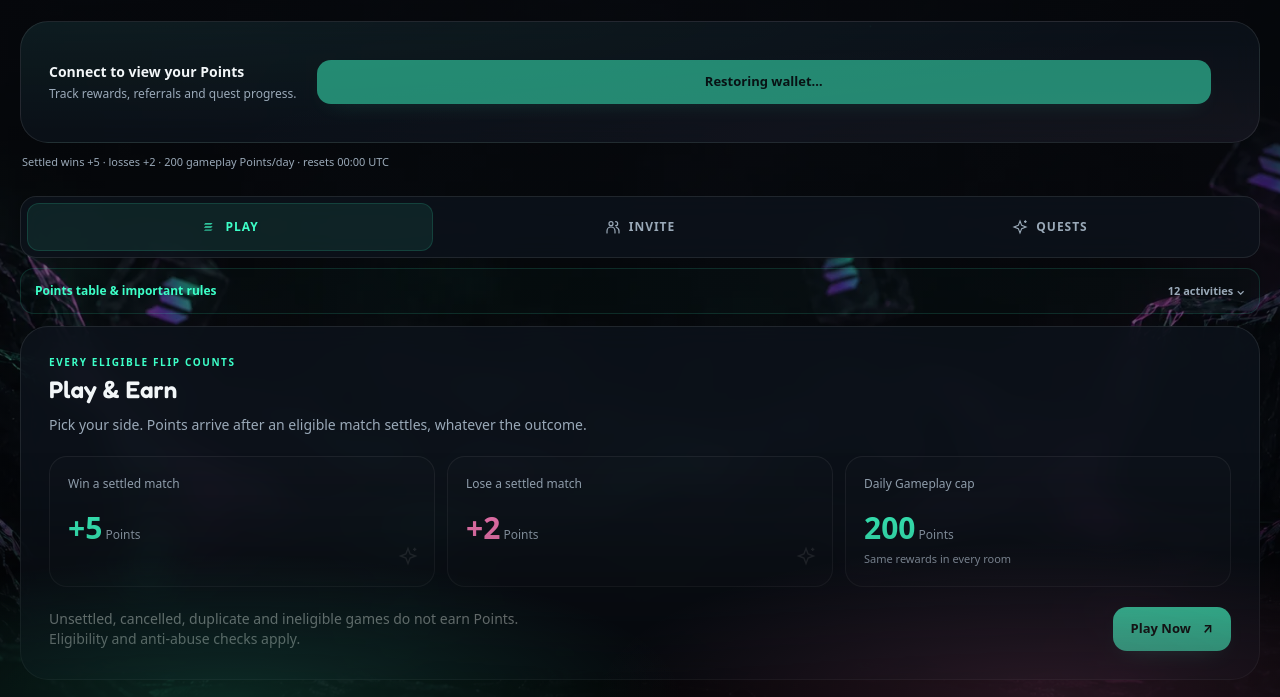
disconnected popup content has earning instructions and wallet actions without private reads
The image size is (1280, 697).
Expected: the button "Restoring wallet…" is shown, [316, 60, 1211, 104]
What coordinates should you click on to do the following:
click the tab "QUESTS"
I would click on:
 (1050, 227)
Its box is [847, 203, 1253, 251].
(page scrolled)
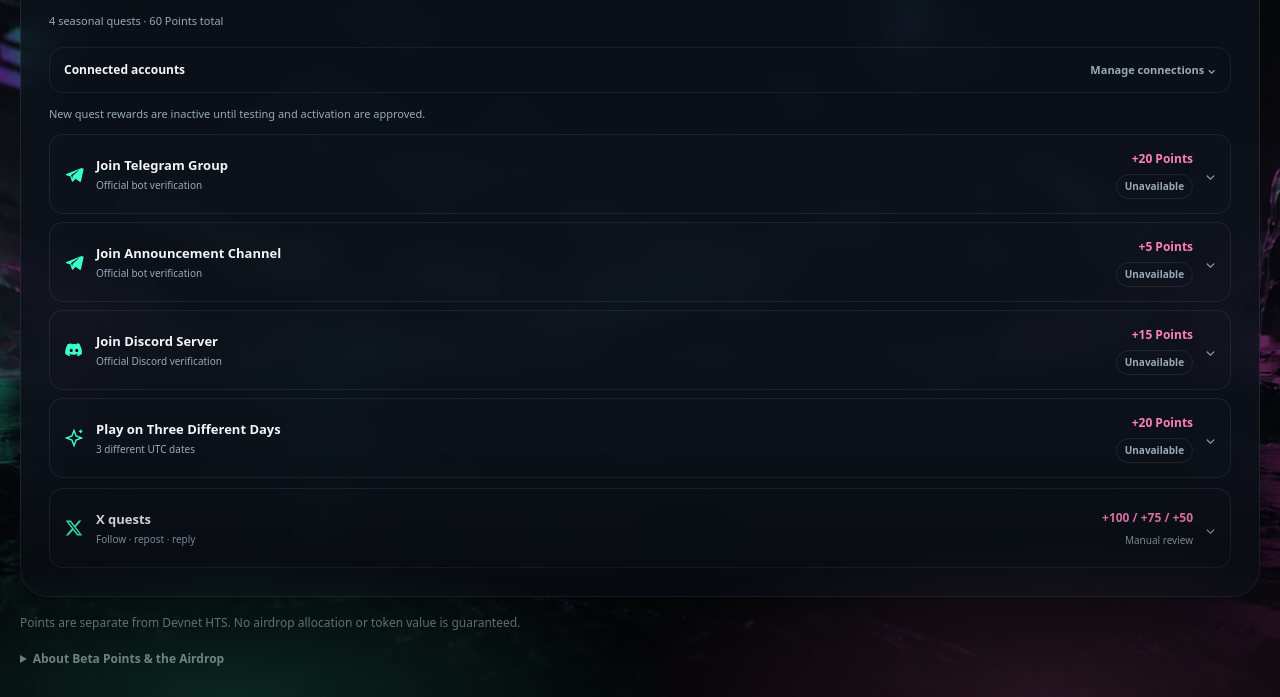
What coordinates should you click on to do the following:
click the text "X quests"
I would click on:
 (124, 518)
Its box is [96, 510, 151, 528].
(page scrolled)
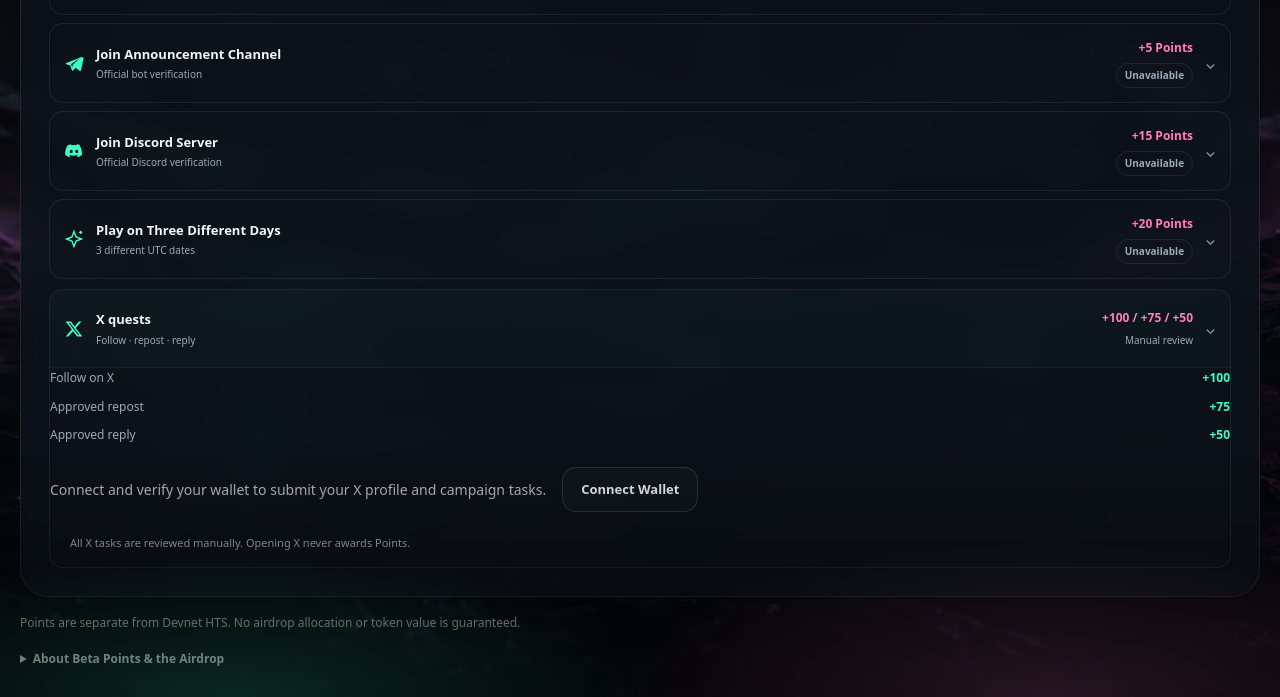
Expected: the text "Follow on X" is shown, [50, 369, 114, 386]
Expected: the text "Opening X never awards Points" is shown, [70, 534, 410, 550]
